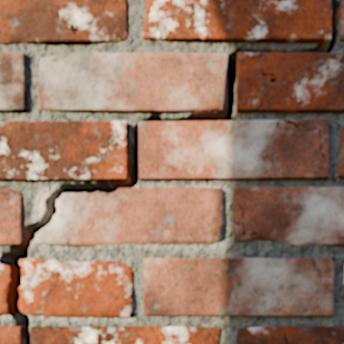brick: (39, 53, 227, 112), (140, 120, 328, 179), (144, 258, 333, 315), (143, 0, 330, 42), (0, 121, 127, 180), (233, 187, 343, 244), (237, 53, 343, 112), (0, 0, 127, 44), (31, 327, 219, 343), (236, 327, 343, 343), (0, 52, 26, 111), (0, 189, 22, 244), (0, 327, 23, 343), (338, 126, 343, 177), (339, 0, 343, 40)
broken_brick: (34, 186, 223, 246), (20, 258, 134, 317), (0, 262, 10, 316), (38, 189, 55, 218)
crack: (0, 0, 341, 343), (275, 119, 329, 160), (233, 203, 257, 235), (310, 258, 321, 294), (0, 191, 8, 195)
